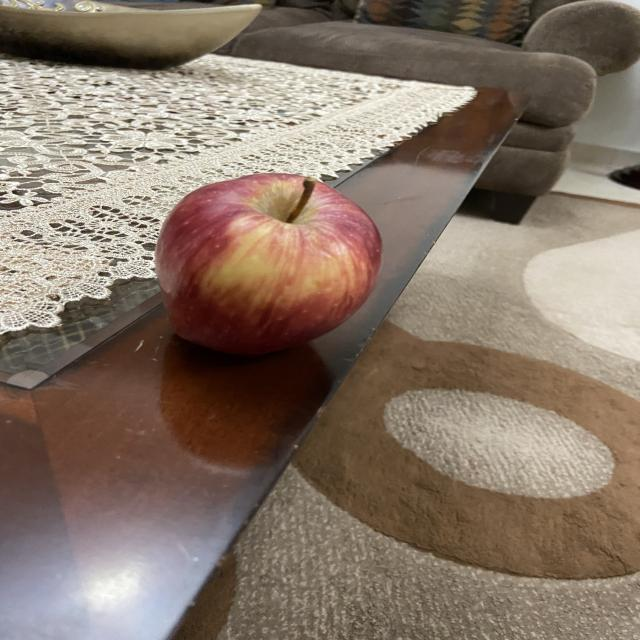apple: (148, 160, 388, 364)
